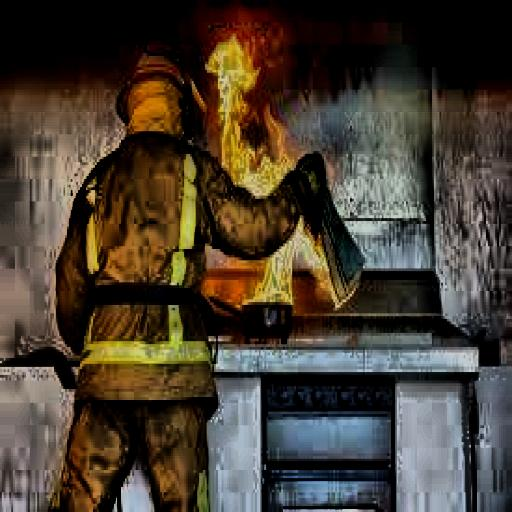fire: (186, 36, 358, 310)
